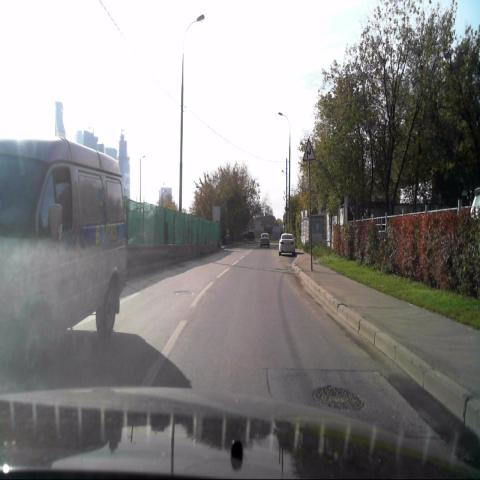1_12: (302, 138, 316, 162)
